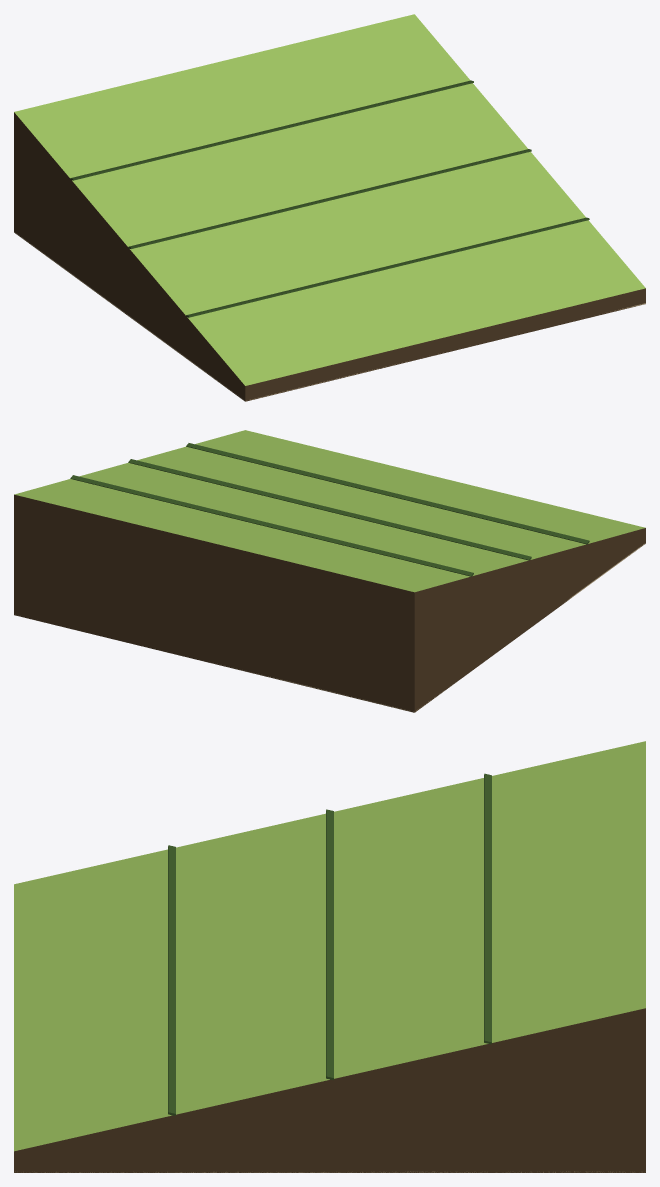
The model's file is terrain_tile_slope_straight.glb.
3 views of the same model, one above another, from view 1: azimuth 30°, elevation 25°; view 2: azimuth 150°, elevation 25°; view 3: azimuth 270°, elevation 25° (orthographic). The views are drawn at different scales.
Visible parts, largest first — view 1: terrain_tile_slope_straight; view 2: terrain_tile_slope_straight; view 3: terrain_tile_slope_straight.
Part boxes in pixels (left/top/right/bottom): terrain_tile_slope_straight: left=14, top=14, right=645, bottom=401; terrain_tile_slope_straight: left=14, top=430, right=645, bottom=712; terrain_tile_slope_straight: left=14, top=741, right=645, bottom=1172.
Bounding box in the file's own units: 8 × 2.3 × 8.
